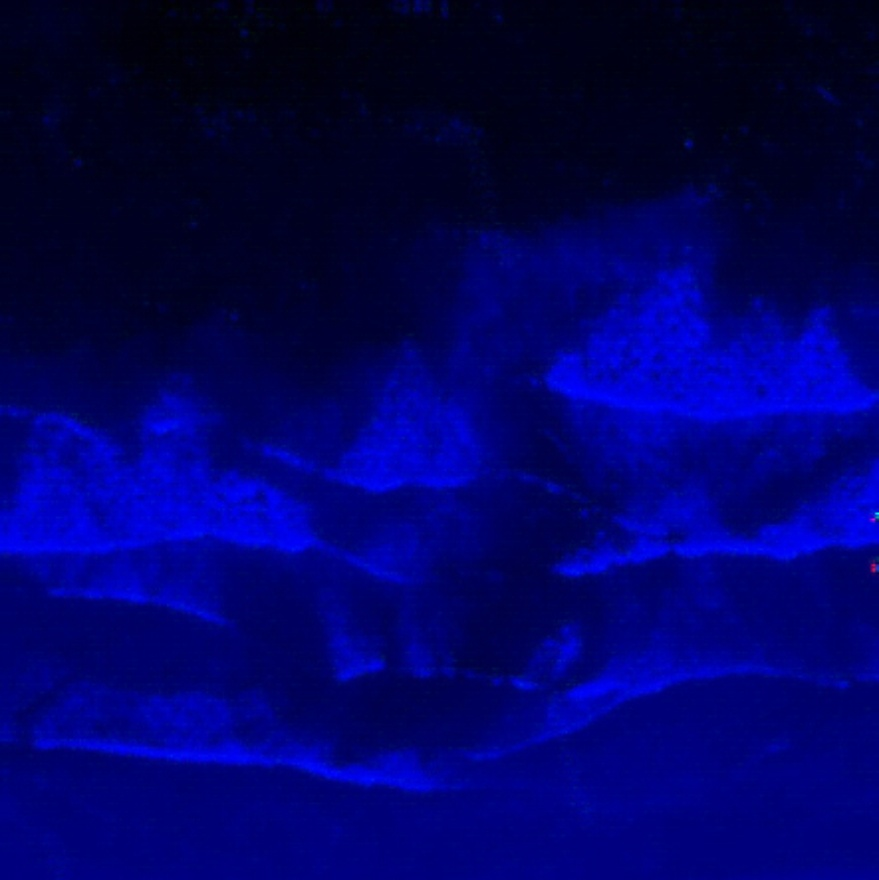rip_current: (340, 143, 669, 686)
